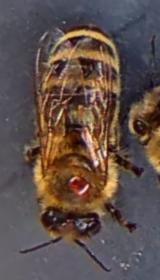varroa_mite: (58, 164, 99, 203)
